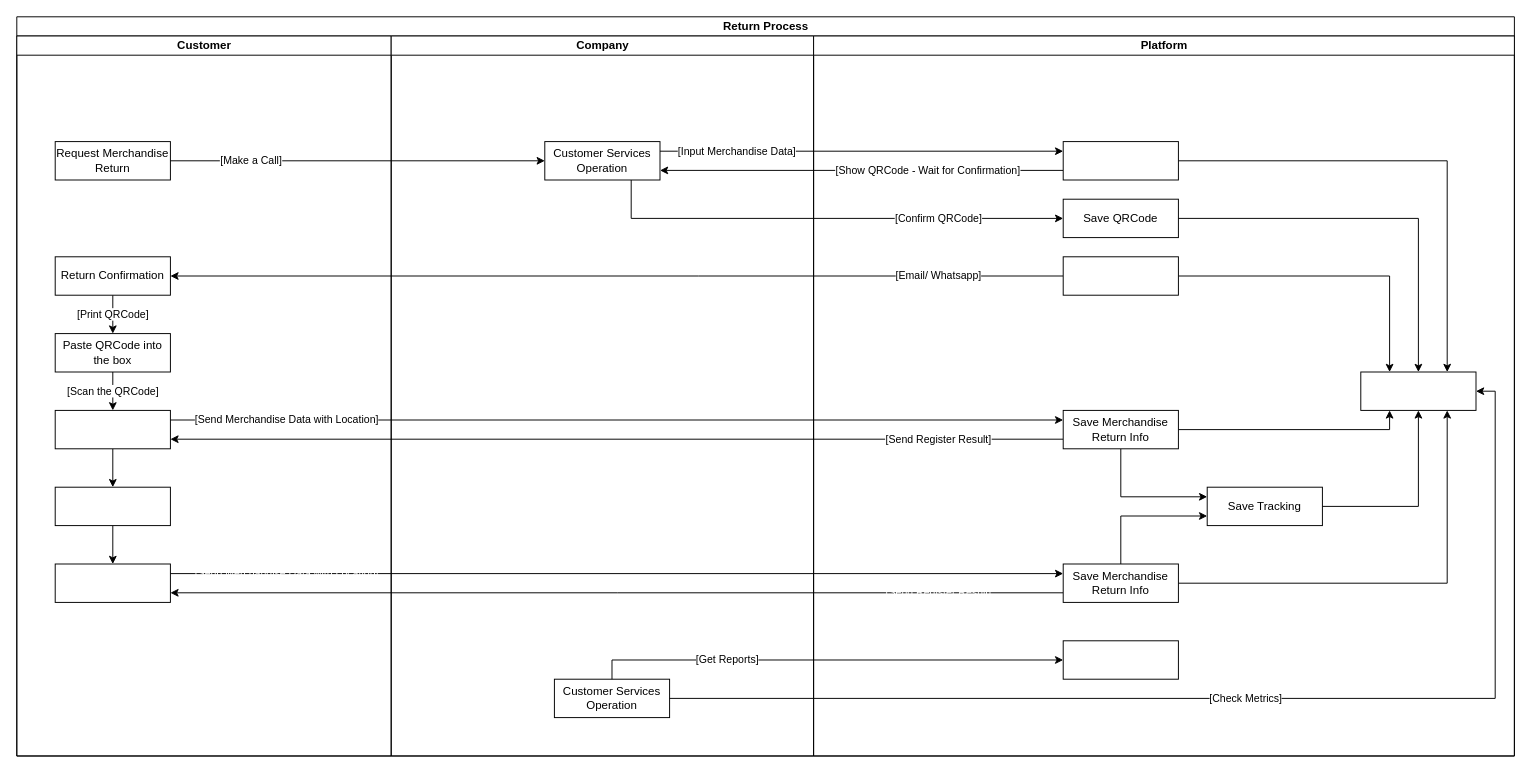
Image size: 1531x773. Some labels were removed from this diagram. The box of each missing label's shape, as (x1, y1, x2, y2) in pixels:
Delivery to the Carrier: (54, 563, 170, 602)
Generate QRCode: (1062, 141, 1178, 180)
Metrics: (1360, 371, 1476, 410)
Register Merchandise Data: (54, 409, 170, 449)
Send Communication [QRCode]: (1062, 256, 1178, 295)
Sned QRCde Info: (1062, 640, 1178, 679)
Wait for The Carrier: (54, 486, 170, 526)
